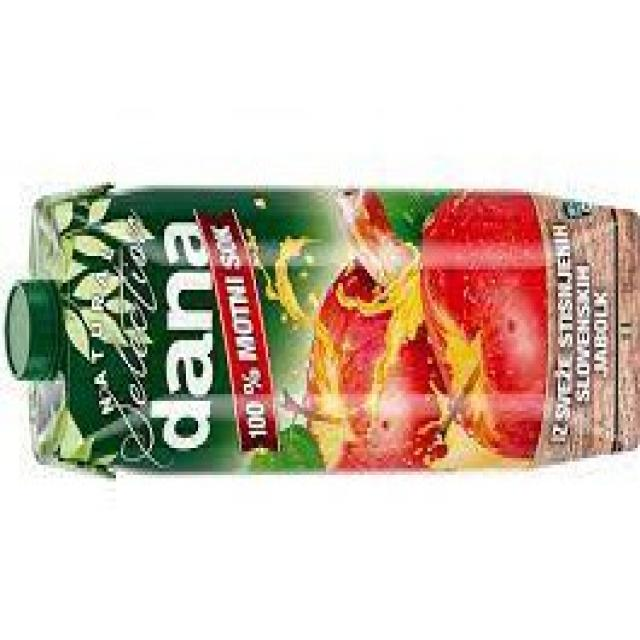non_white_jug: (5, 176, 640, 482)
